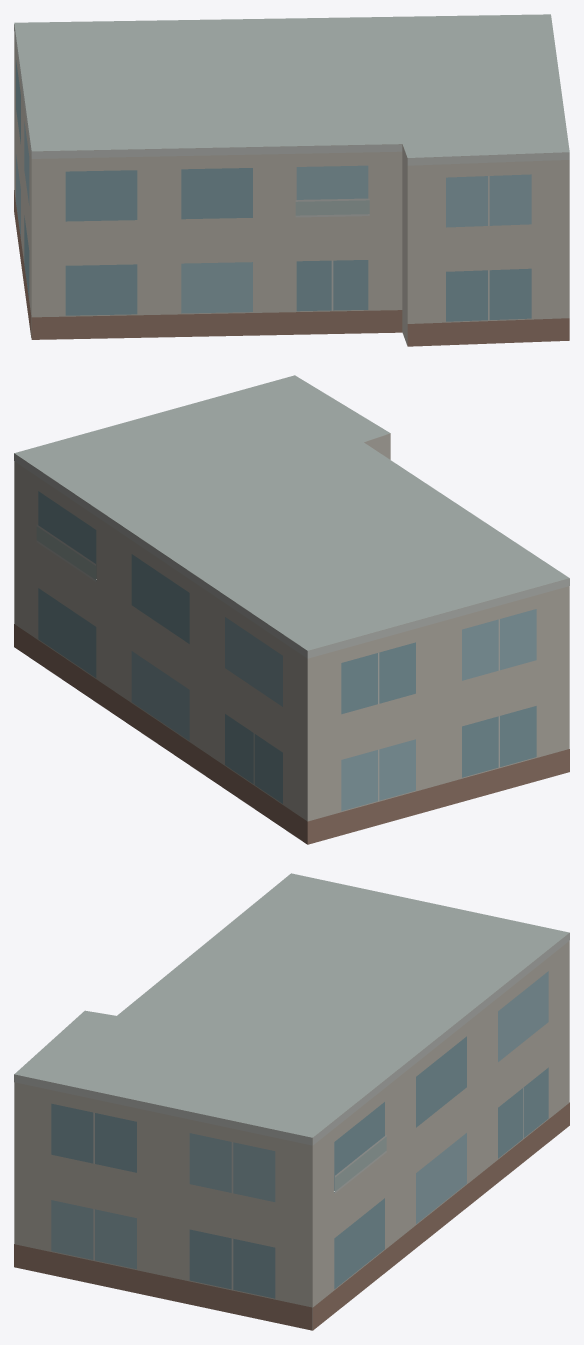
The model's file is survey-upis-32890948.glb.
3 renders of one model, top to bottom at view 1: azimuth 30°, elevation 25°; view 2: azimuth 150°, elevation 25°; view 3: azimuth 270°, elevation 25°, orthographic. The views are drawn at different scales.
Parts seen in each view (by area): view 1: survey-upis-32890948.tmp; view 2: survey-upis-32890948.tmp; view 3: survey-upis-32890948.tmp.
Boxes of the visible parts, x1,y1,x2,y2 form: survey-upis-32890948.tmp: [14, 14, 569, 346]; survey-upis-32890948.tmp: [14, 375, 569, 844]; survey-upis-32890948.tmp: [14, 873, 569, 1330].
Size of the model in its own units: 17.66 by 6 by 15.68.
